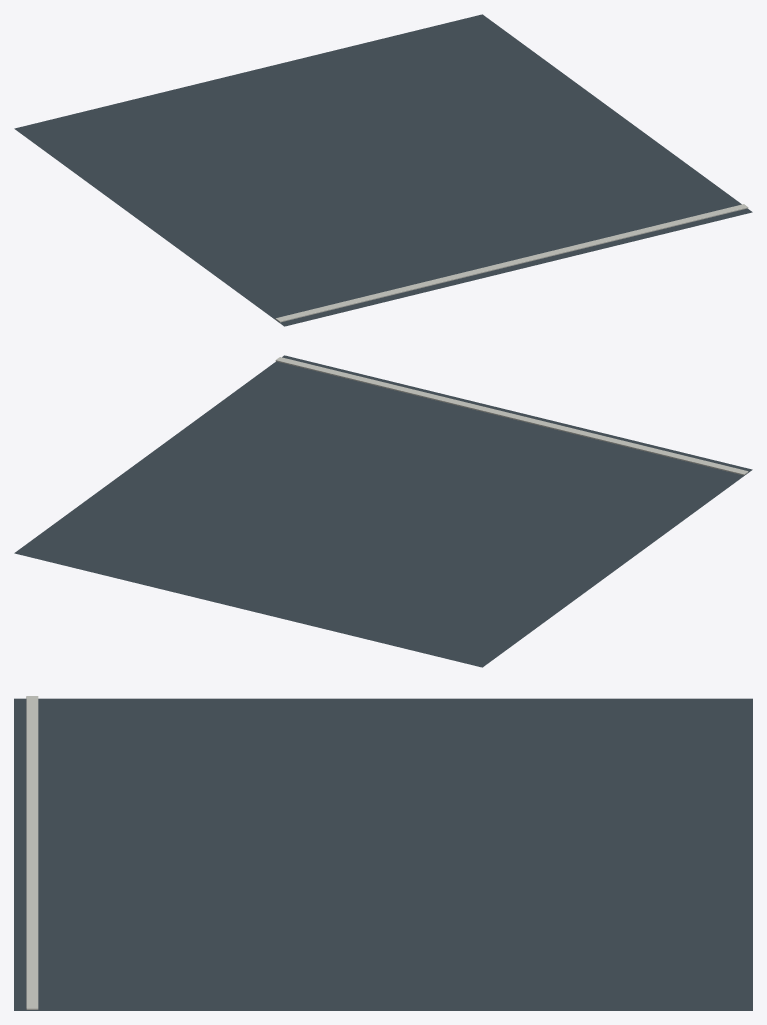
The model's file is landscape-road-tee.lod0.glb.
3 renders of one model, top to bottom at view 1: azimuth 30°, elevation 25°; view 2: azimuth 150°, elevation 25°; view 3: azimuth 270°, elevation 25°, orthographic. The views are drawn at different scales.
Parts seen in each view (by area): view 1: landscape-road-tee__body; view 2: landscape-road-tee__body; view 3: landscape-road-tee__body.
Boxes of the visible parts, left/top/right/bottom form: landscape-road-tee__body: left=14, top=14, right=752, bottom=326; landscape-road-tee__body: left=14, top=355, right=752, bottom=667; landscape-road-tee__body: left=14, top=696, right=752, bottom=1010.
Bounding box in the file's own units: 8 × 0.03 × 8.
